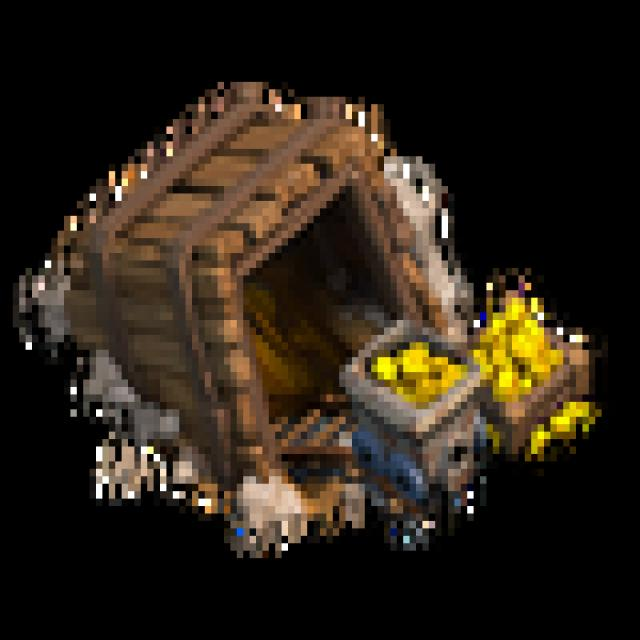gold_mine: (17, 78, 625, 585)
